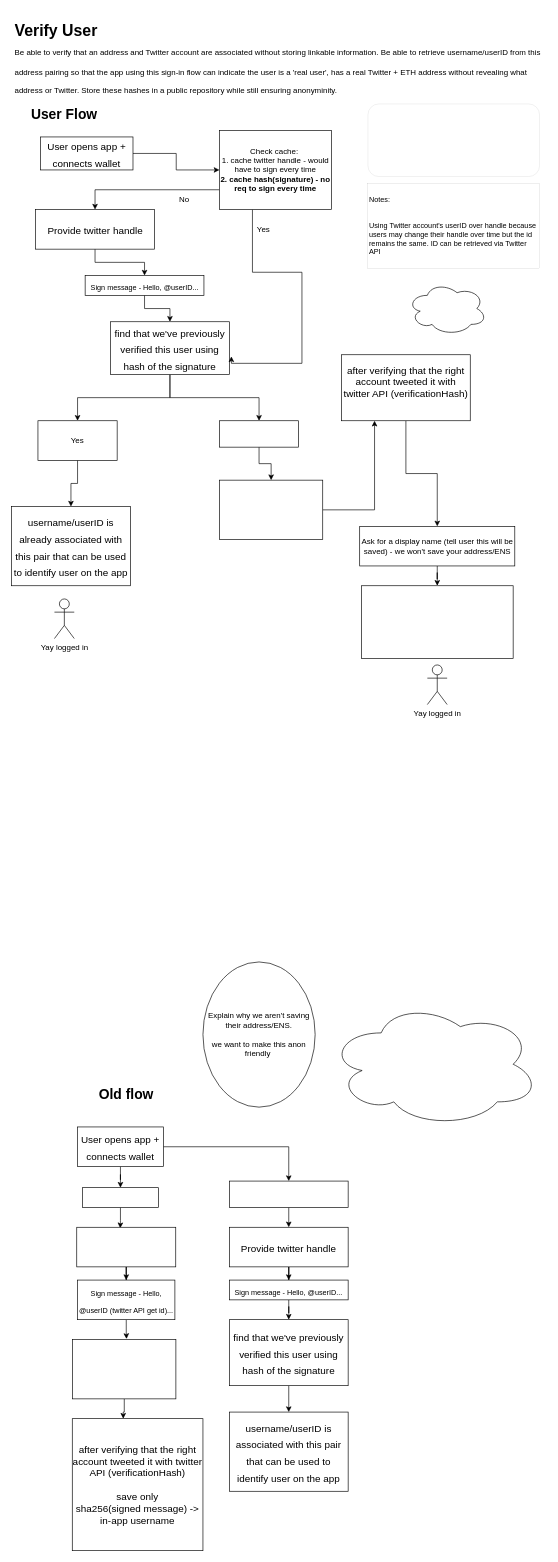
Image size: 558x1562. Some labels were removed from this diagram. The centre of each missing label's shape, as x and y in pixels:
"DB: using Arweave" belongs at (447,308).
"generate some sha256(sig) to post on twitter" belongs at (124,1369).
"generate the verificationHash to post on twitter" belongs at (271,509).
"let them choose if they want to be anon prefill their ENS or twitter handle" belongs at (434,1064).
"New user" belongs at (120,1197).
"No (this is a new user)" belongs at (259,433).
"Provide twitter handle + display name" belongs at (126,1247).
"Returning User" belongs at (288,1193).
"save only sha256(signed message) -> in-app username" belongs at (437,621).
"We only store: Hash(signed message) -> username" belongs at (453,140).
